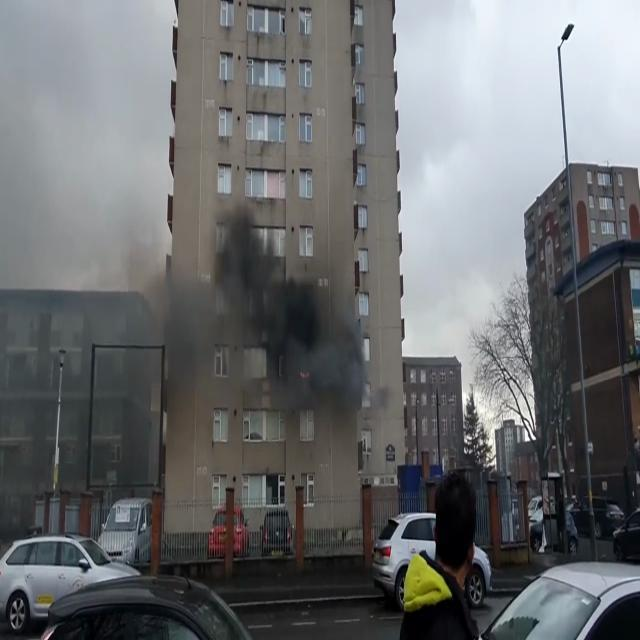Smoke: (0, 181, 194, 495), (216, 183, 372, 434)
